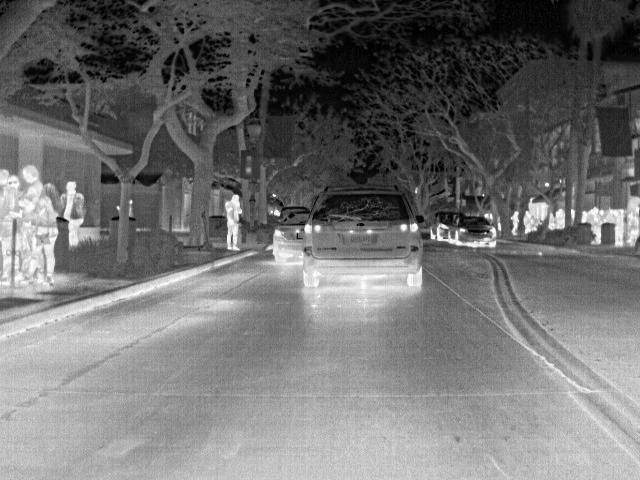car: (301, 182, 427, 290), (270, 211, 310, 261), (453, 216, 498, 248), (437, 211, 460, 241)
person: (1, 169, 18, 280), (60, 180, 88, 244), (24, 162, 45, 247), (40, 198, 60, 287), (223, 192, 244, 253), (520, 209, 533, 237), (509, 209, 522, 236)
